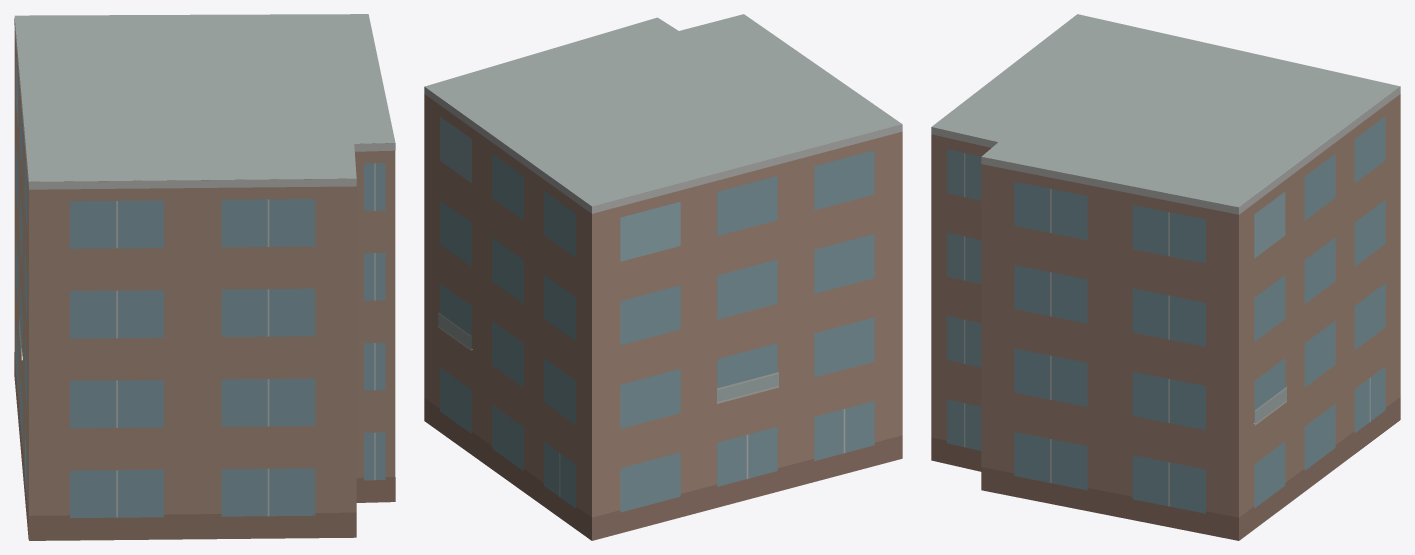
The model's file is survey-upis-32694924.glb.
The picture shows the model from 3 angles, left to right: view 1: azimuth 30°, elevation 25°; view 2: azimuth 150°, elevation 25°; view 3: azimuth 270°, elevation 25°; orthographic projection. The views are drawn at different scales.
Visible parts, largest first — view 1: survey-upis-32694924.tmp; view 2: survey-upis-32694924.tmp; view 3: survey-upis-32694924.tmp.
Part boxes in pixels (x1,y1,x2,y2): survey-upis-32694924.tmp: (14, 14, 395, 540); survey-upis-32694924.tmp: (424, 14, 902, 540); survey-upis-32694924.tmp: (931, 14, 1400, 540).
Bounding box in the file's own units: 13.85 × 11.13 × 14.2.
